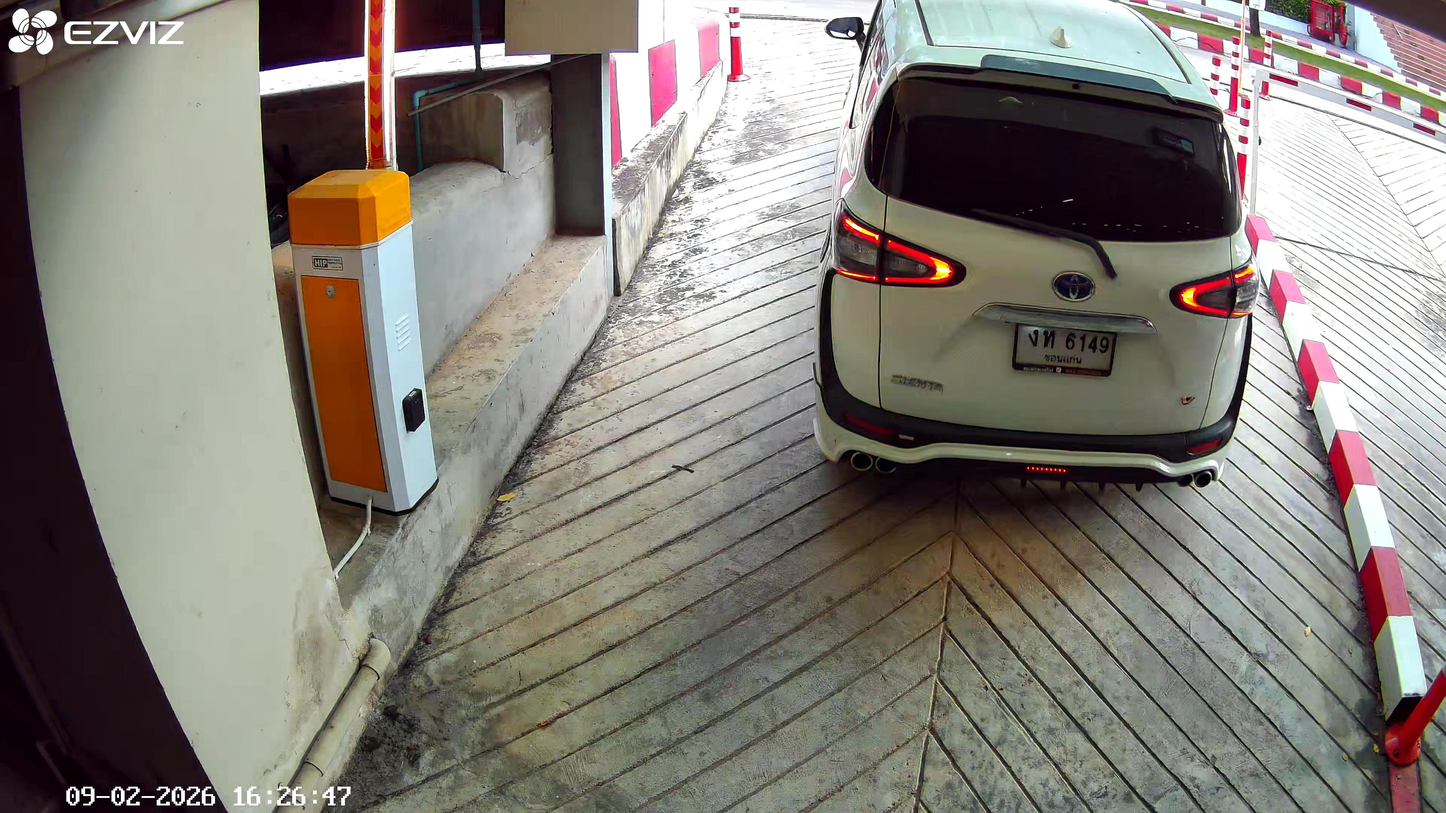car: (815, 5, 1262, 490)
license-plate: (1009, 315, 1119, 379)
